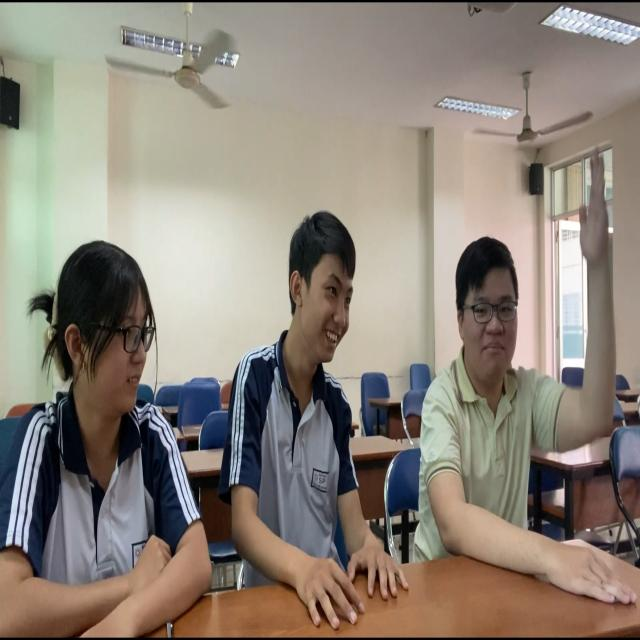raise_hand: (423, 147, 621, 540)
